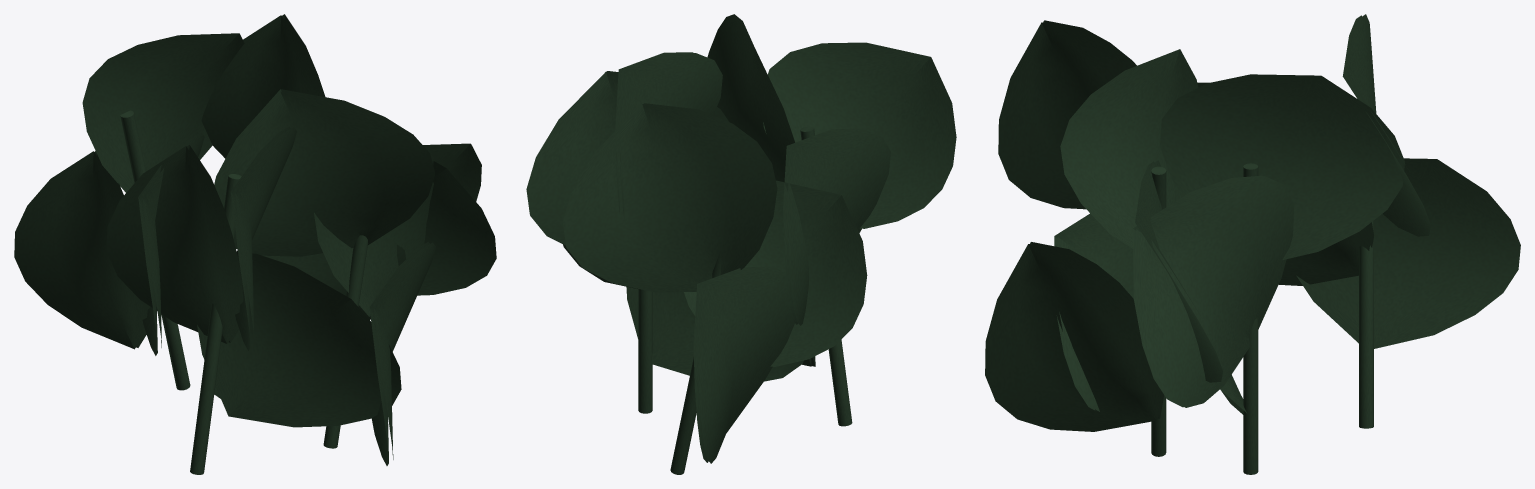
The model's file is anubias.glb.
The picture shows the model from 3 angles, left to right: view 1: azimuth 30°, elevation 25°; view 2: azimuth 150°, elevation 25°; view 3: azimuth 270°, elevation 25°; orthographic projection. The views are drawn at different scales.
Parts seen in each view (by area): view 1: moving_stem_1, moving_stem_3, moving_stem_2, moving_stem_0; view 2: moving_stem_2, moving_stem_1, moving_stem_3, moving_stem_0; view 3: moving_stem_0, moving_stem_3, moving_stem_2, moving_stem_1.
Part boxes in pixels (bbox=[...]): moving_stem_1: bbox=[106, 126, 401, 474]; moving_stem_3: bbox=[214, 89, 481, 465]; moving_stem_2: bbox=[14, 33, 244, 390]; moving_stem_0: bbox=[201, 14, 496, 398]; moving_stem_2: bbox=[562, 103, 867, 474]; moving_stem_1: bbox=[763, 42, 956, 426]; moving_stem_3: bbox=[526, 14, 794, 245]; moving_stem_0: bbox=[563, 52, 803, 413]; moving_stem_0: bbox=[1133, 74, 1404, 474]; moving_stem_3: bbox=[985, 49, 1222, 456]; moving_stem_2: bbox=[1278, 14, 1520, 428]; moving_stem_1: bbox=[998, 20, 1209, 411].
Bounding box in the file's own units: 0.7048 × 0.7492 × 0.9228.
Materials: 1 (1 with a texture image).
